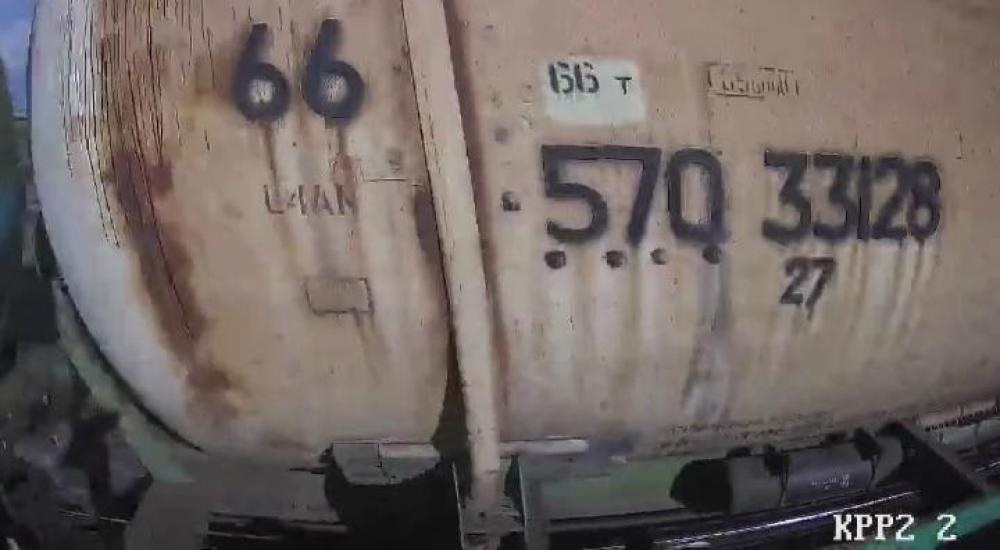Wagon-number: (536, 139, 947, 251)
